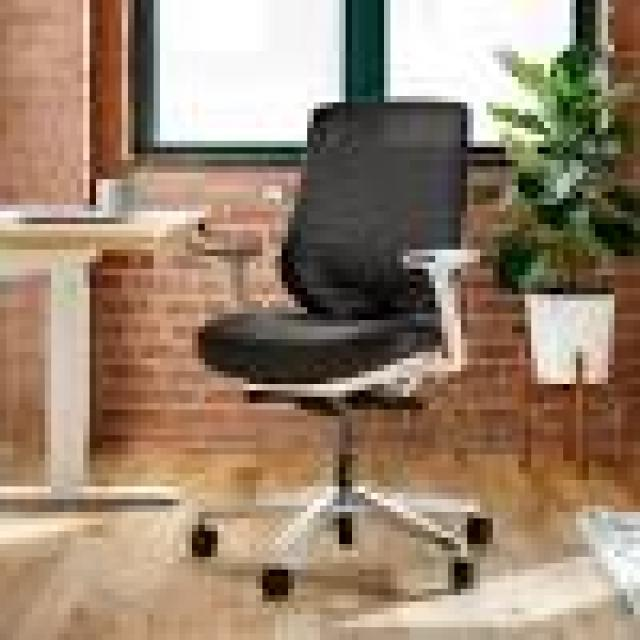chair: (102, 72, 566, 640)
